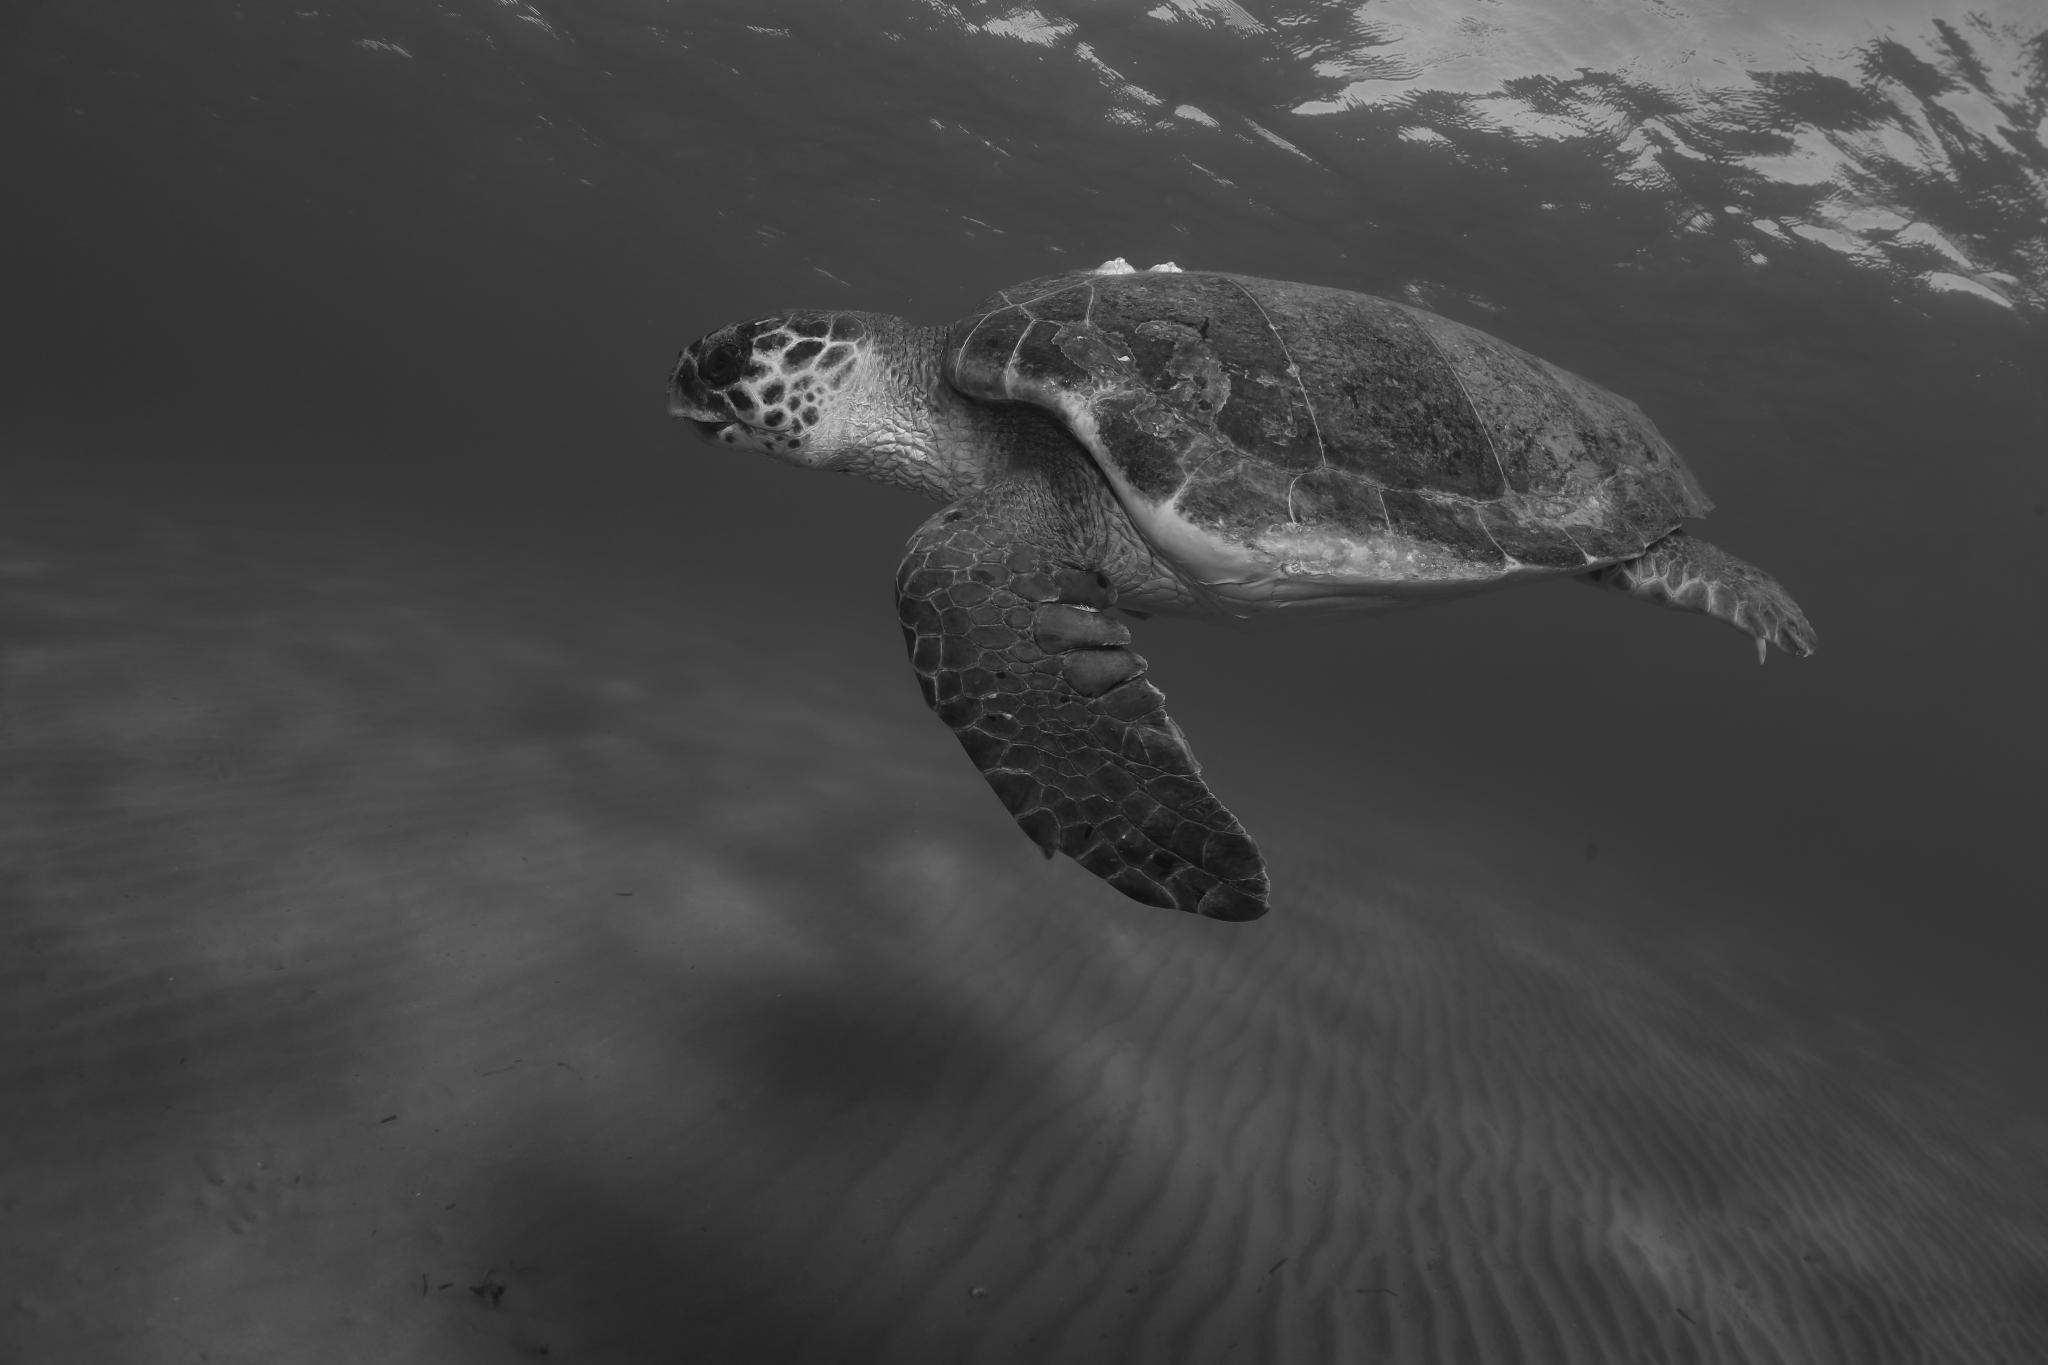Head: (666, 310, 949, 501)
